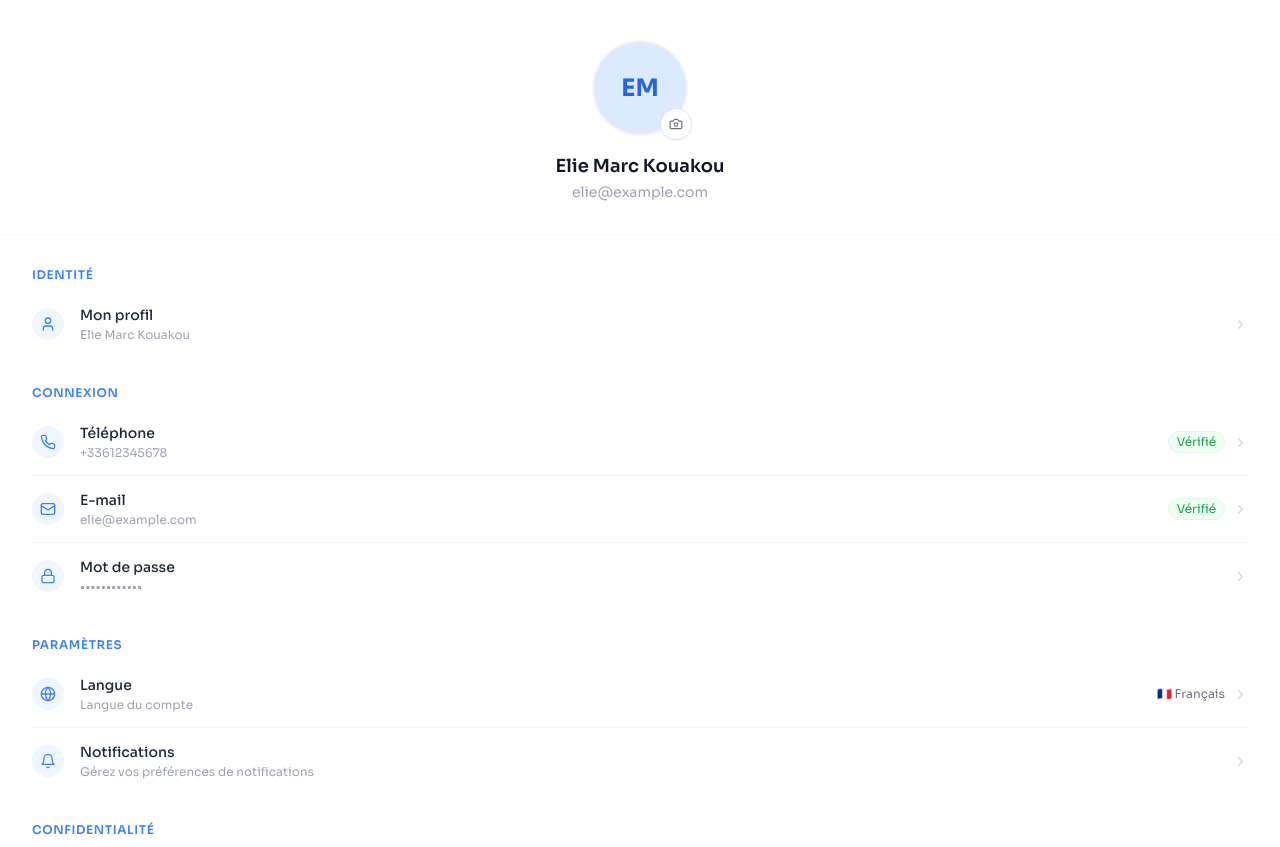
Test: ProfilePage › affiche l’erreur si le changement de mot de passe est refusé
Click the button "Mot de passe ••••••••••••": (48, 576) 32,543 -> 1248,609
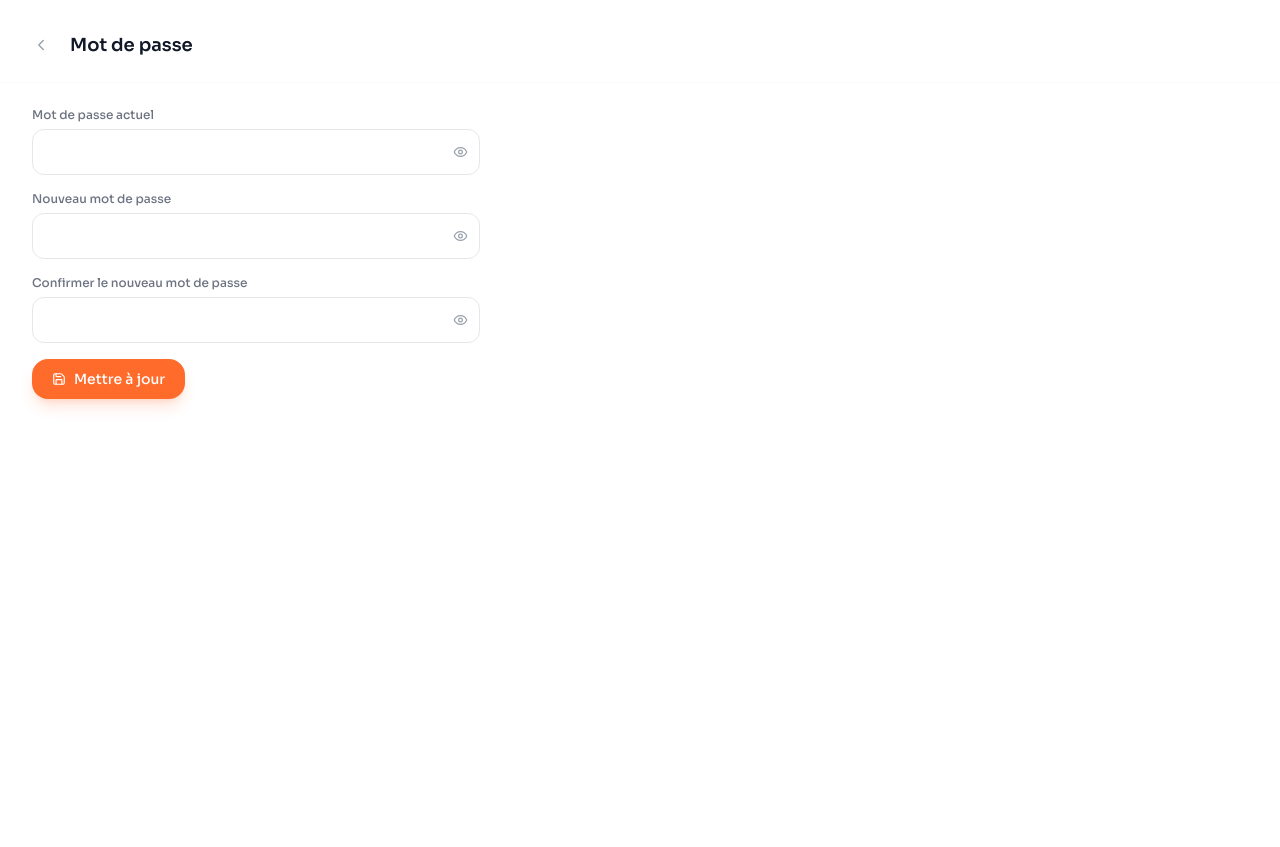
In the password field below "Mot de passe actuel": (256, 152) 32,129 -> 480,175, type "Ancien123!"
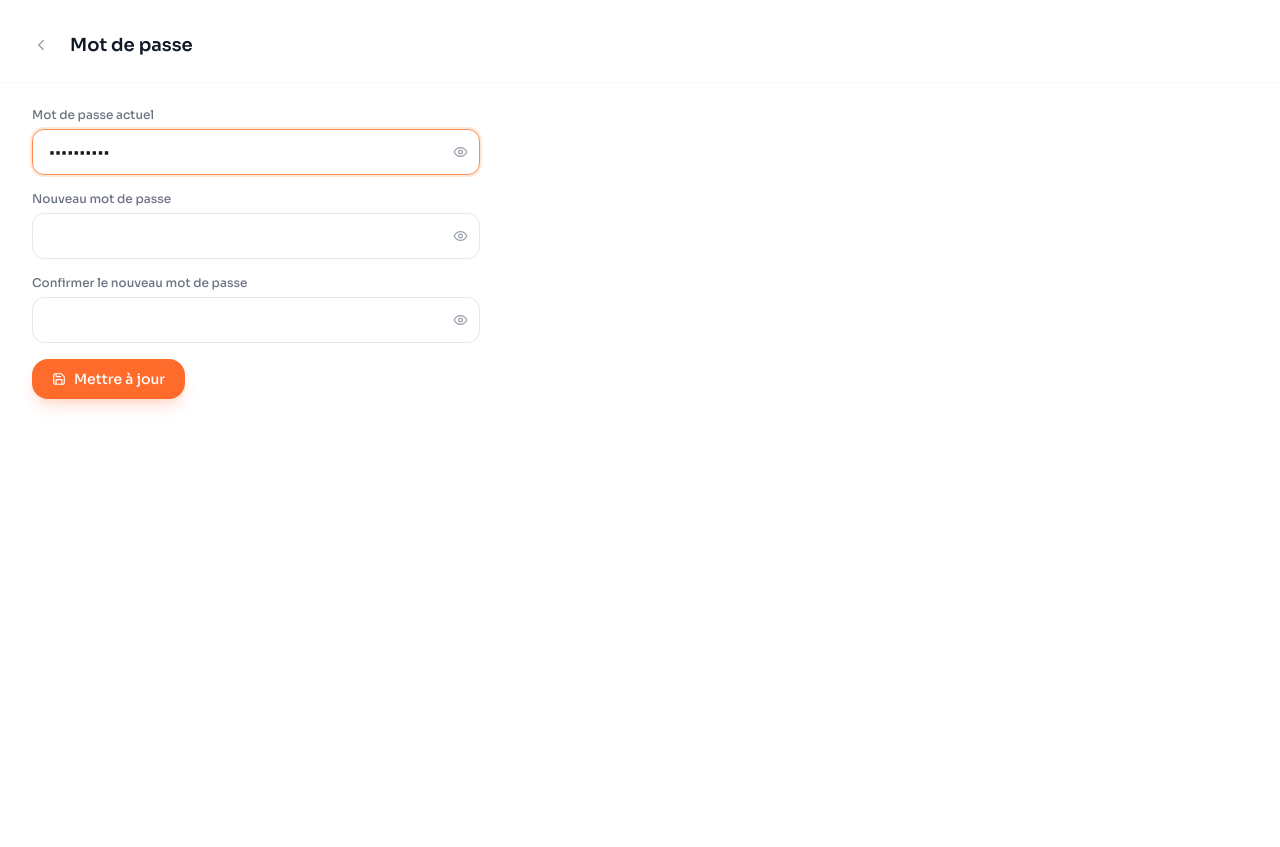
In the 2nd password field: (256, 236) 32,213 -> 480,259, type "Nouveau123!"
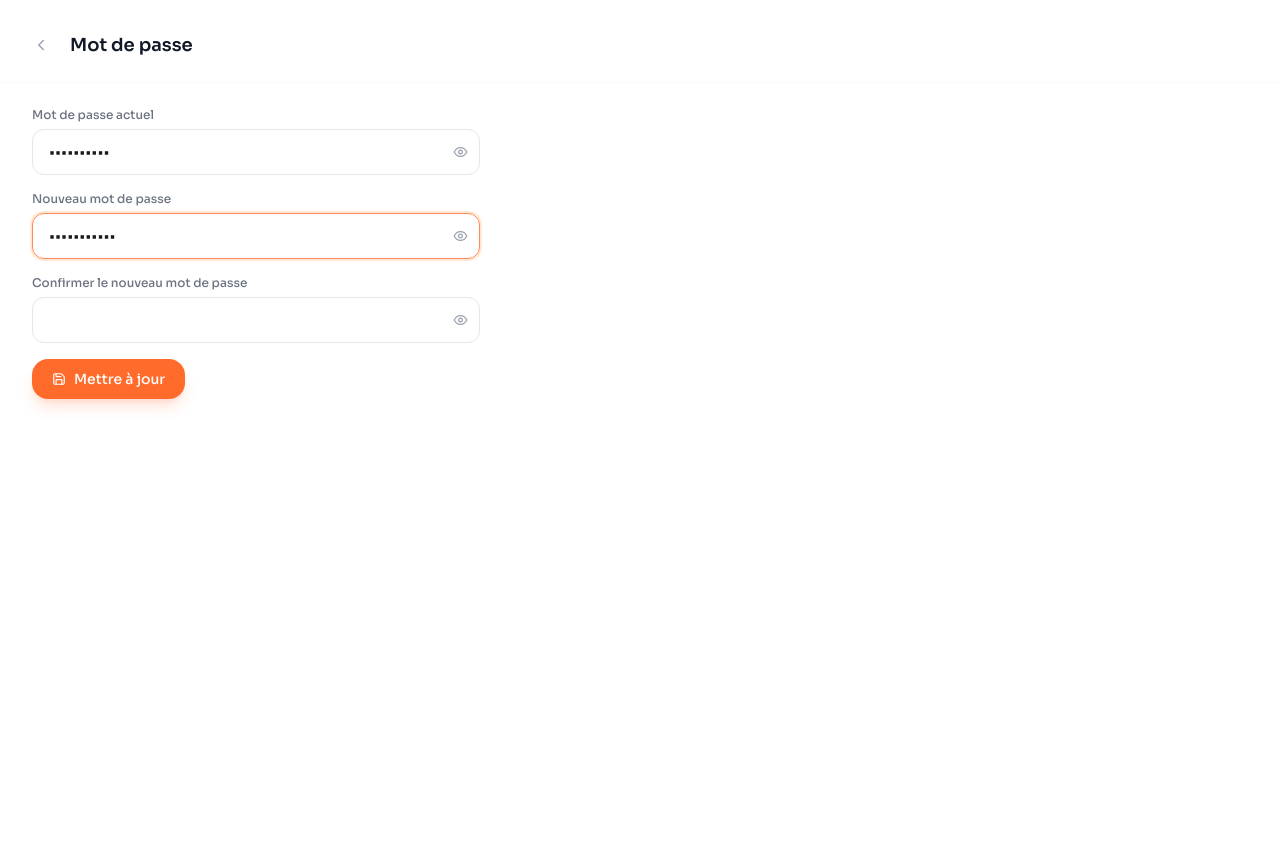
In the password field below "Confirmer le nouveau mot de passe": (256, 320) 32,297 -> 480,343, type "Nouveau123!"
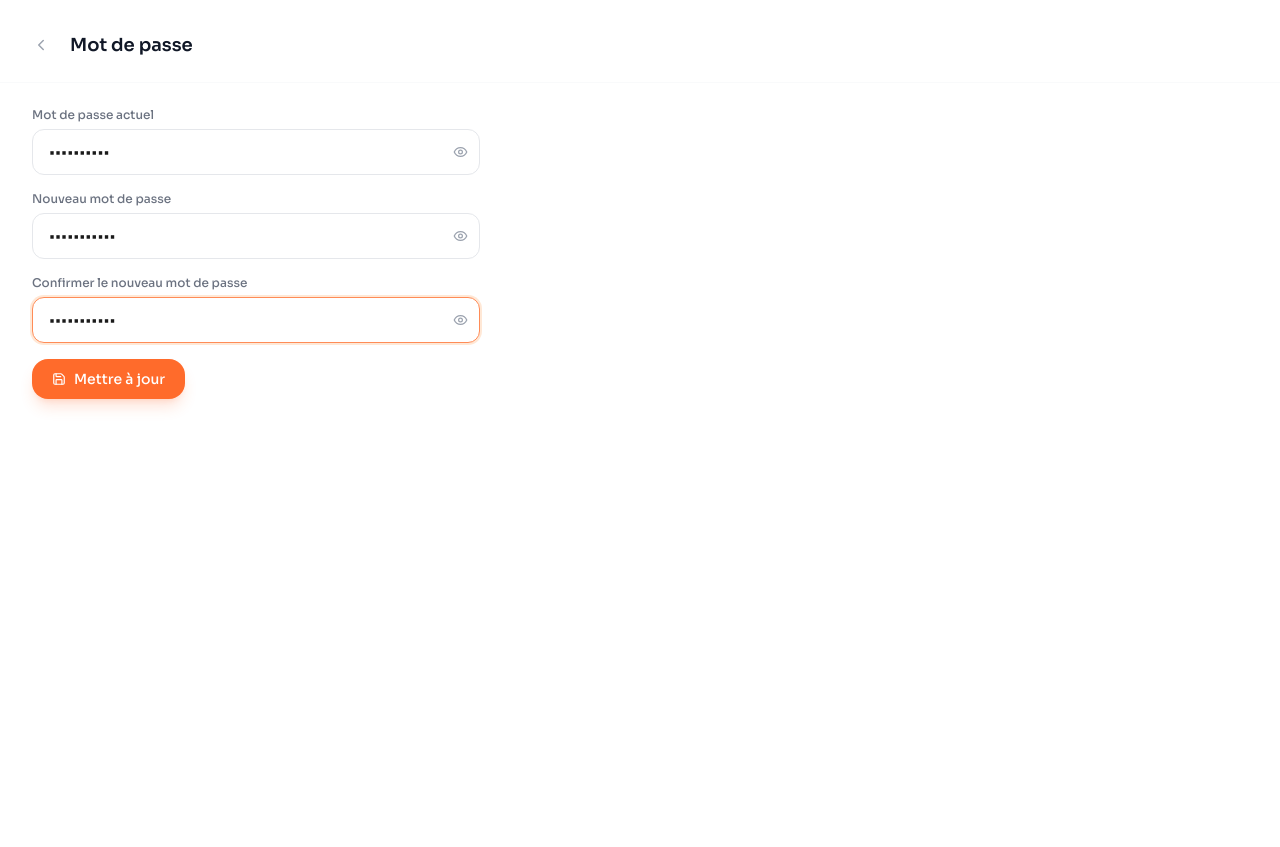
Click the button "Mettre à jour": (109, 379) 32,359 -> 185,399
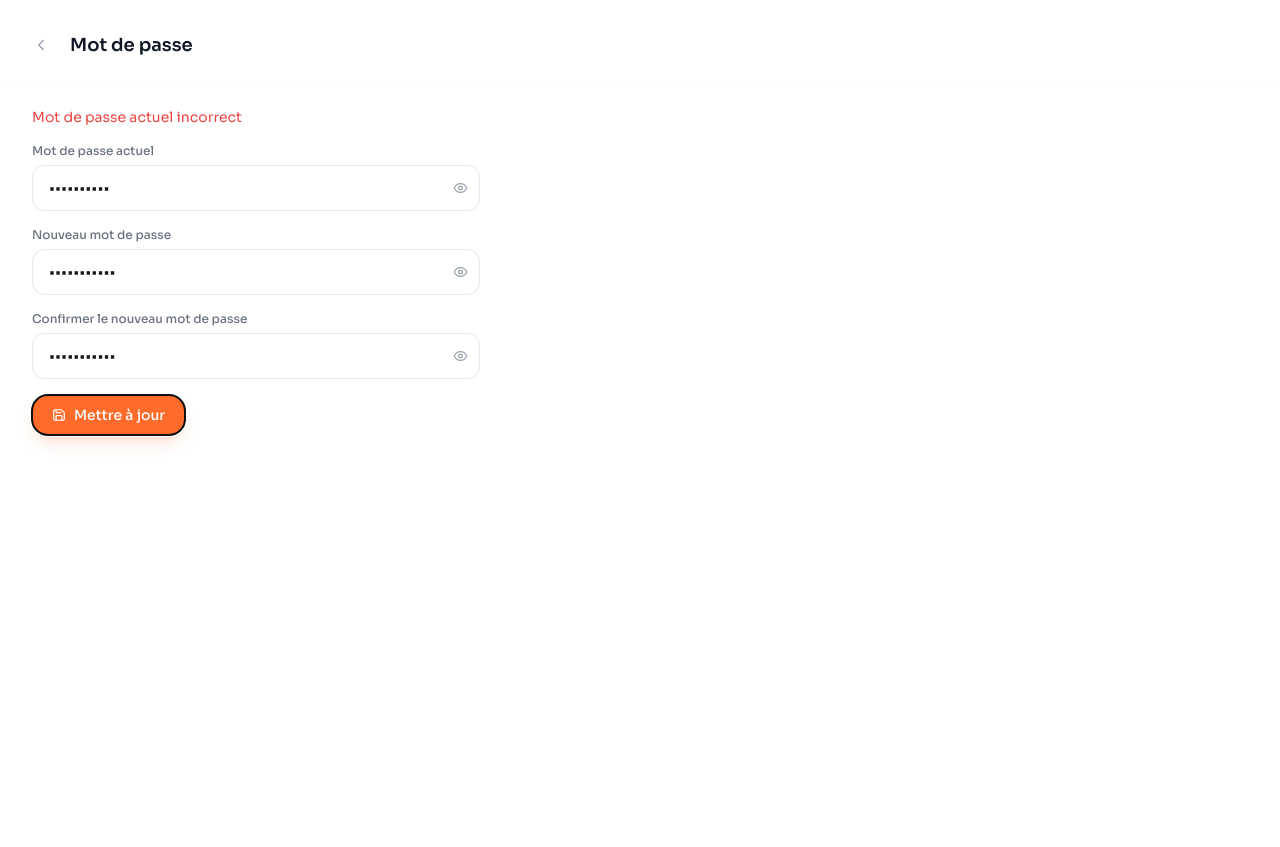
Check: the text "Mot de passe actuel incorrect" is shown, box 32,108 -> 242,126
